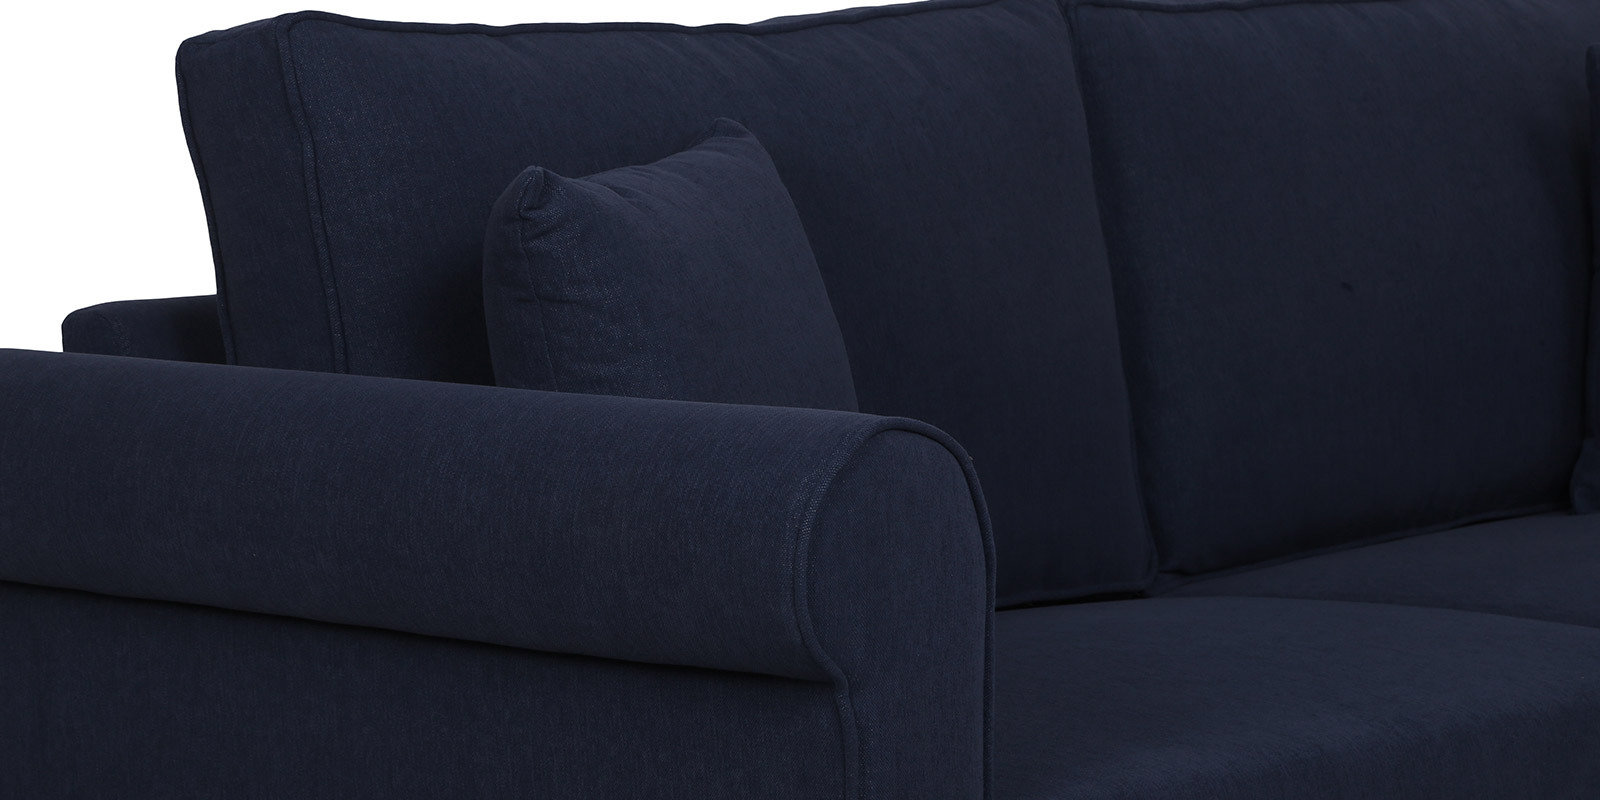Fuego Three Seater Sofa in Navy Blue Colour by CasaCraft: (2, 3, 1584, 800)
